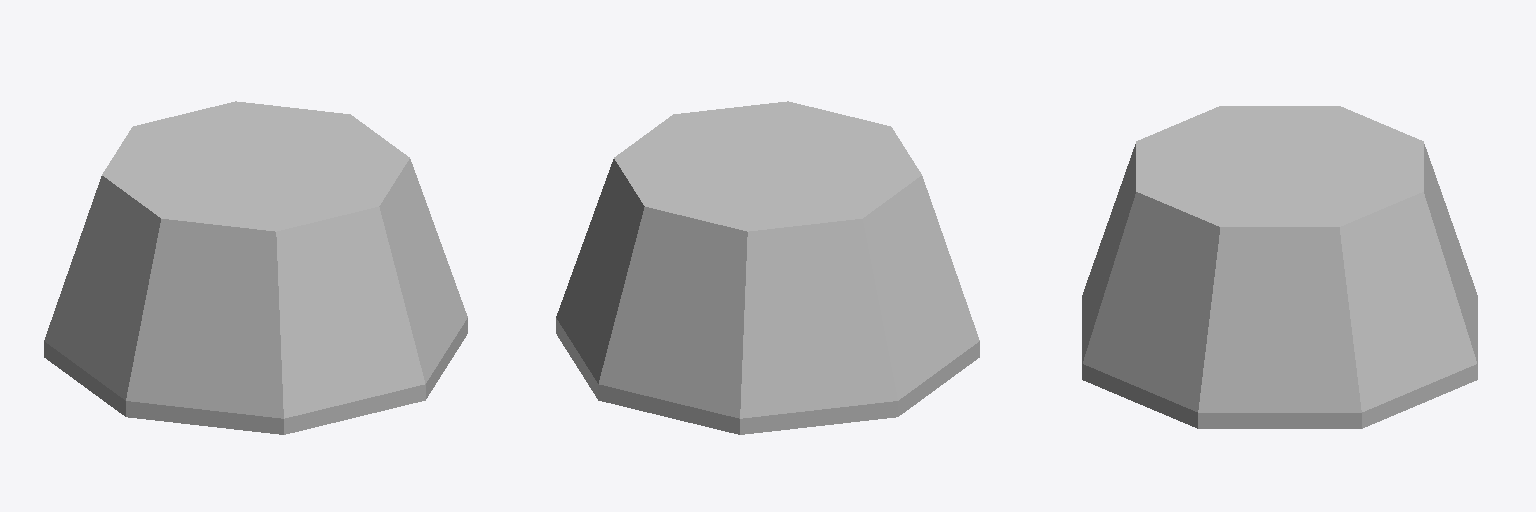
Rendered from cannon2_base.obj.
3 views of the same model, side by side, from view 1: azimuth 30°, elevation 25°; view 2: azimuth 150°, elevation 25°; view 3: azimuth 270°, elevation 25° (orthographic).
Bounding box in the file's own units: 1.38 × 0.6875 × 1.38.